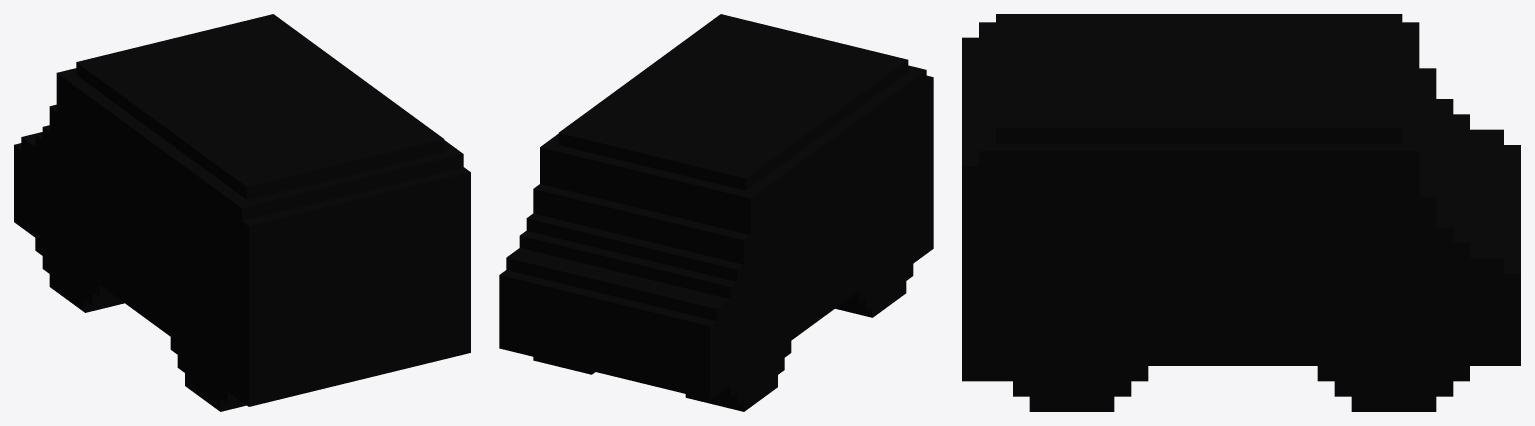
The model's file is Van.obj.
3 views of the same model, side by side, from view 1: azimuth 30°, elevation 25°; view 2: azimuth 150°, elevation 25°; view 3: azimuth 270°, elevation 25° (orthographic). The views are drawn at different scales.
Size of the model in its own units: 1.8 by 1.8 by 3.3.
